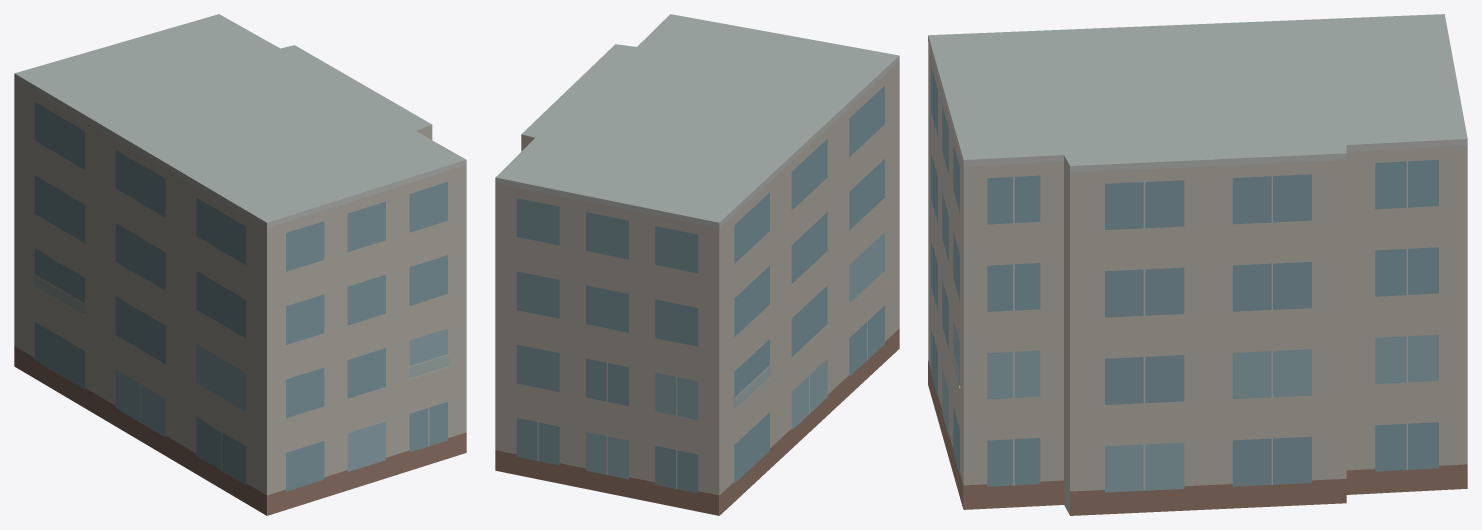
File: survey-upis-32970874.glb
3 views of the same model, side by side, from view 1: azimuth 30°, elevation 25°; view 2: azimuth 150°, elevation 25°; view 3: azimuth 270°, elevation 25° (orthographic). The views are drawn at different scales.
Visible parts, largest first — view 1: survey-upis-32970874.tmp; view 2: survey-upis-32970874.tmp; view 3: survey-upis-32970874.tmp.
Part boxes in pixels (box(x1,y1,x2,y2)): survey-upis-32970874.tmp: box(14, 14, 466, 515); survey-upis-32970874.tmp: box(495, 14, 899, 515); survey-upis-32970874.tmp: box(928, 14, 1467, 515).
Bounding box in the file's own units: 11.94 × 12.8 × 17.9.
